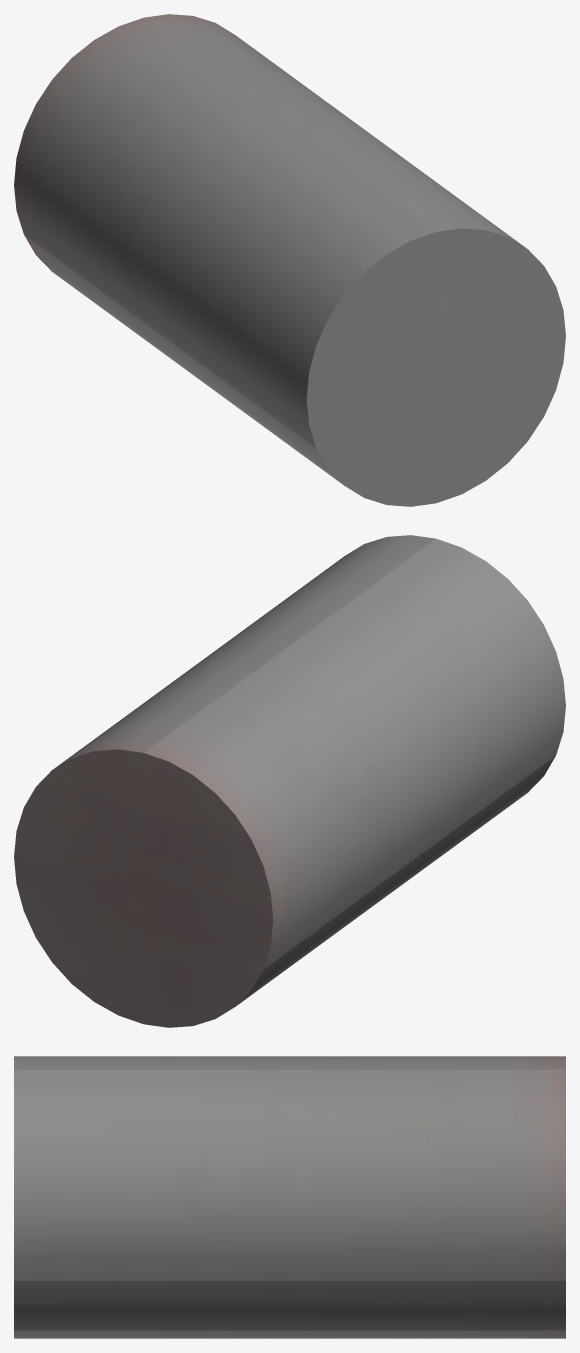
Rendered from frame__rear_foot_drop_0.glb.
The picture shows the model from 3 angles, top to bottom: view 1: azimuth 30°, elevation 25°; view 2: azimuth 150°, elevation 25°; view 3: azimuth 270°, elevation 25°; orthographic projection. The views are drawn at different scales.
Visible parts, largest first — view 1: world; view 2: world; view 3: world.
Part boxes in pixels (<box>): world: <box>14,14,565,506</box>; world: <box>14,535,565,1027</box>; world: <box>14,1056,565,1338</box>.
Size of the model in its own units: 0.022 by 0.022 by 0.043.
1 material, 1 textured.
